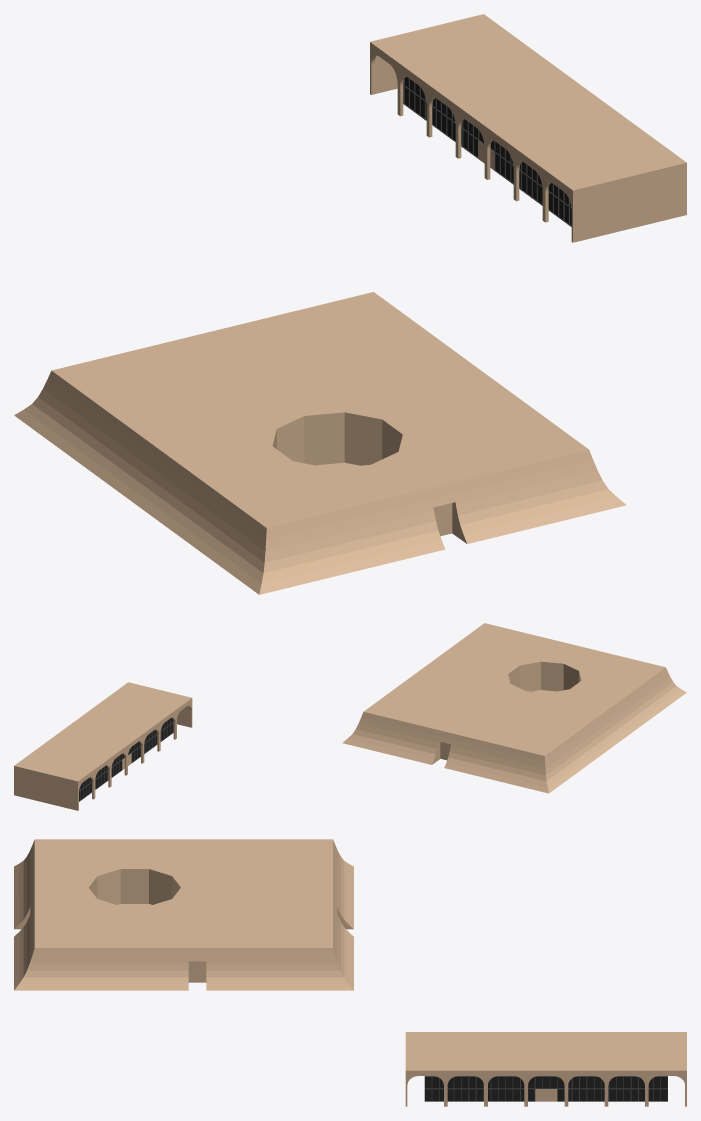
The model's file is village to rectorat.gltf.
The picture shows the model from 3 angles, top to bottom: view 1: azimuth 30°, elevation 25°; view 2: azimuth 150°, elevation 25°; view 3: azimuth 270°, elevation 25°; orthographic projection. The views are drawn at different scales.
Visible parts, largest first — view 1: village, rectorat; view 2: village, rectorat; view 3: village, rectorat.
Part boxes in pixels (<box>): village: <box>14,292,626,594</box>; rectorat: <box>370,14,686,242</box>; village: <box>342,623,686,793</box>; rectorat: <box>14,682,192,810</box>; village: <box>14,839,353,990</box>; rectorat: <box>405,1032,686,1106</box>.
Bounding box in the file's own units: 253 × 17.81 × 300.
Materials: 1 (1 with a texture image).
